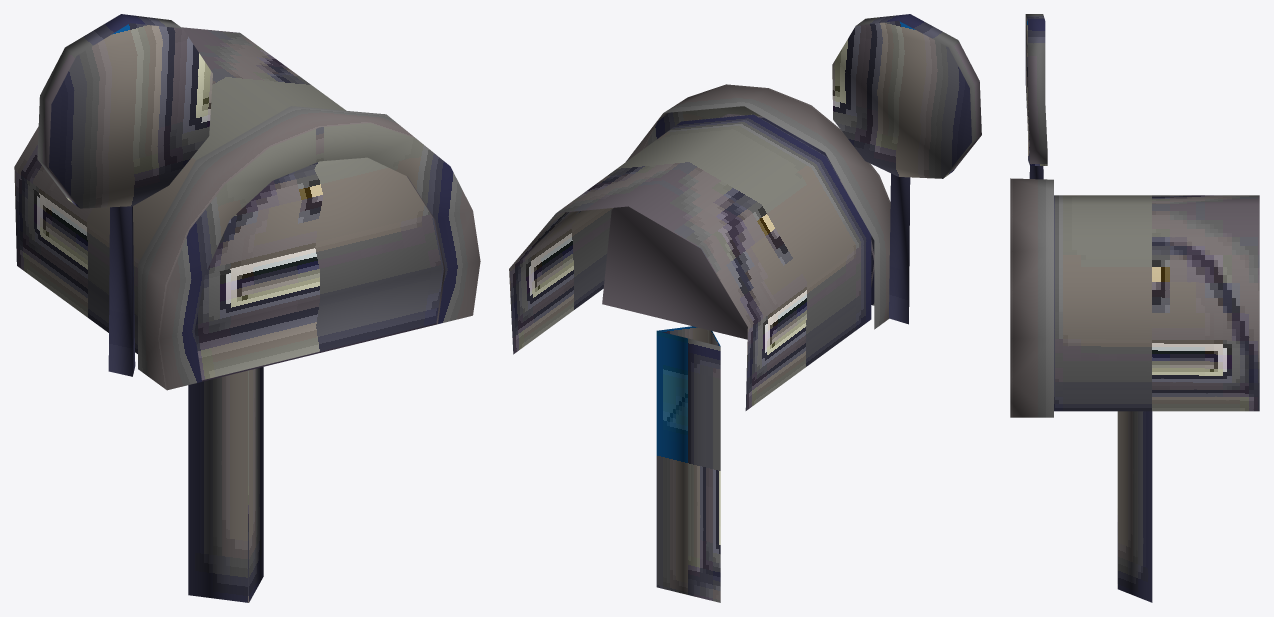
Rendered from int_post_A01.dae.
3 views of the same model, side by side, from view 1: azimuth 30°, elevation 25°; view 2: azimuth 150°, elevation 25°; view 3: azimuth 270°, elevation 25° (orthographic). The views are drawn at different scales.
Parts seen in each view (by area): view 1: int_post_A01; view 2: int_post_A01; view 3: int_post_A01.
Boxes of the visible parts, box(x1,y1,x2,y2) form: int_post_A01: box(14, 14, 480, 602); int_post_A01: box(509, 14, 981, 602); int_post_A01: box(1010, 14, 1259, 602).
Size of the model in its own units: 26.36 by 39.85 by 17.89.
1 material, 1 textured.
